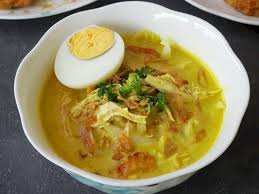soto: (27, 18, 234, 179)
